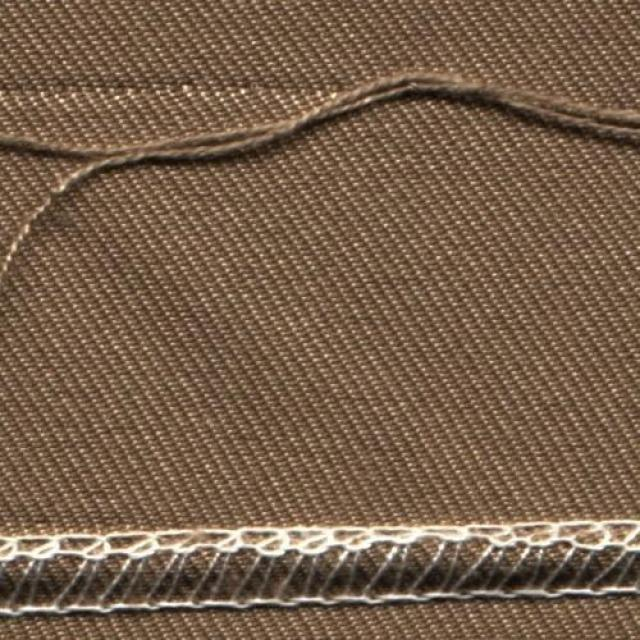gray stitch: (1, 512, 640, 621)
